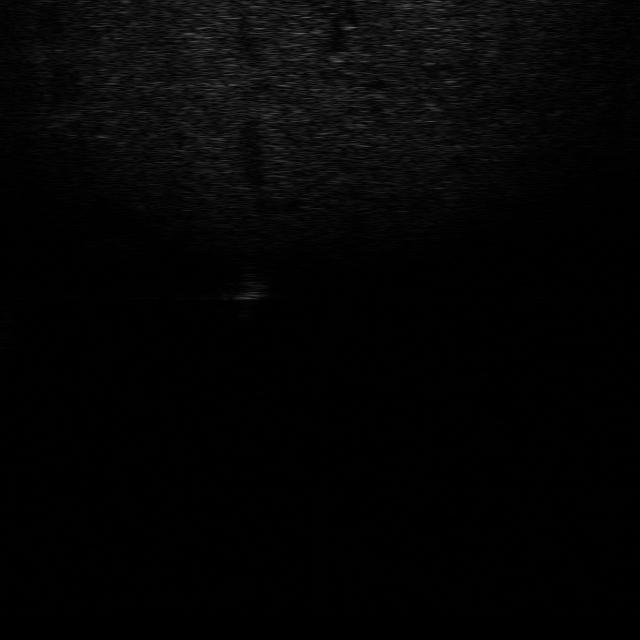human body: (234, 266, 270, 321)
